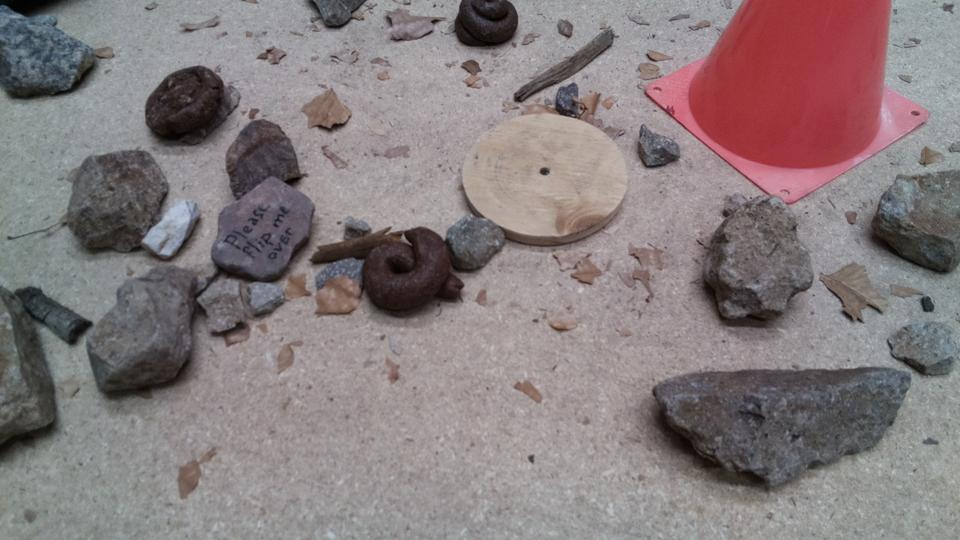poop: (358, 224, 464, 317), (142, 63, 225, 138), (451, 1, 521, 50)
